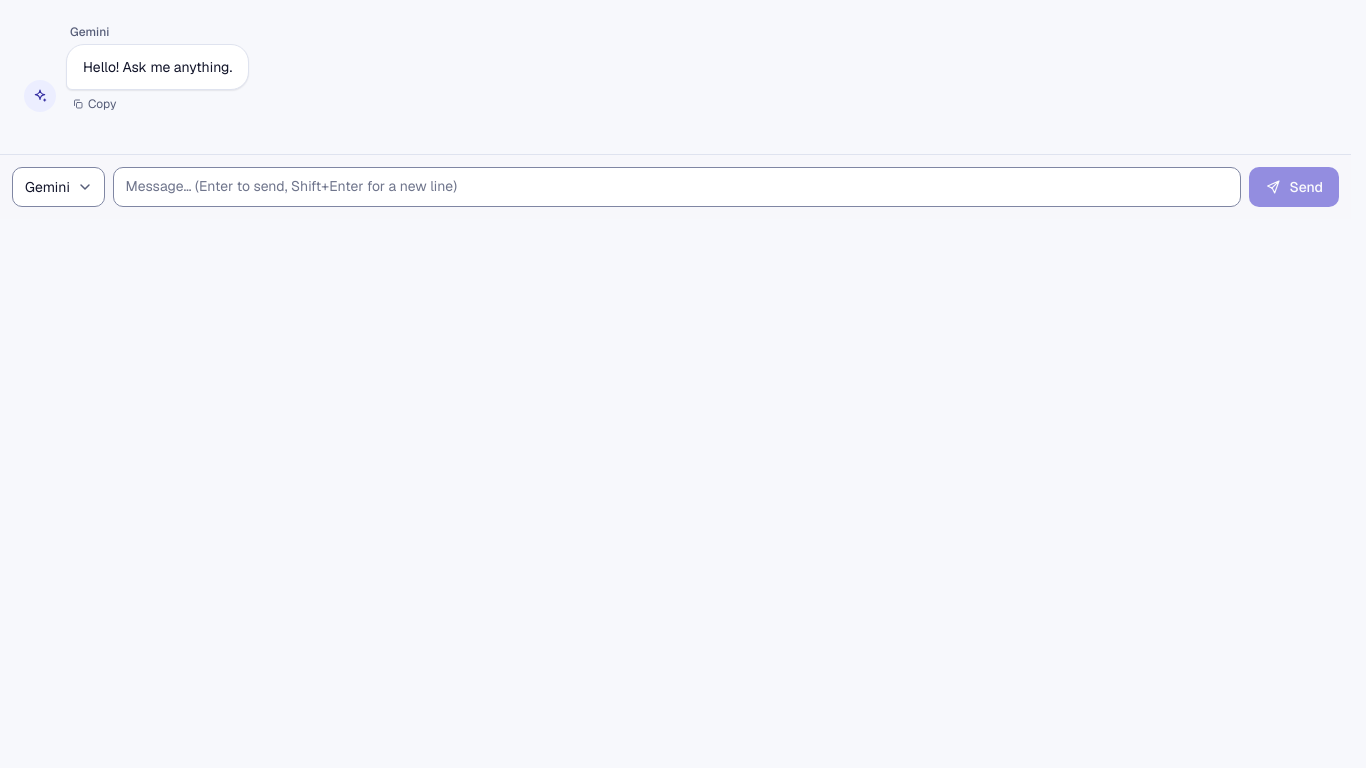
ChatWindow › copies an assistant reply
Click the button with aria-label "Copy this reply". click: click(94, 104)
box: [66, 94, 122, 114]
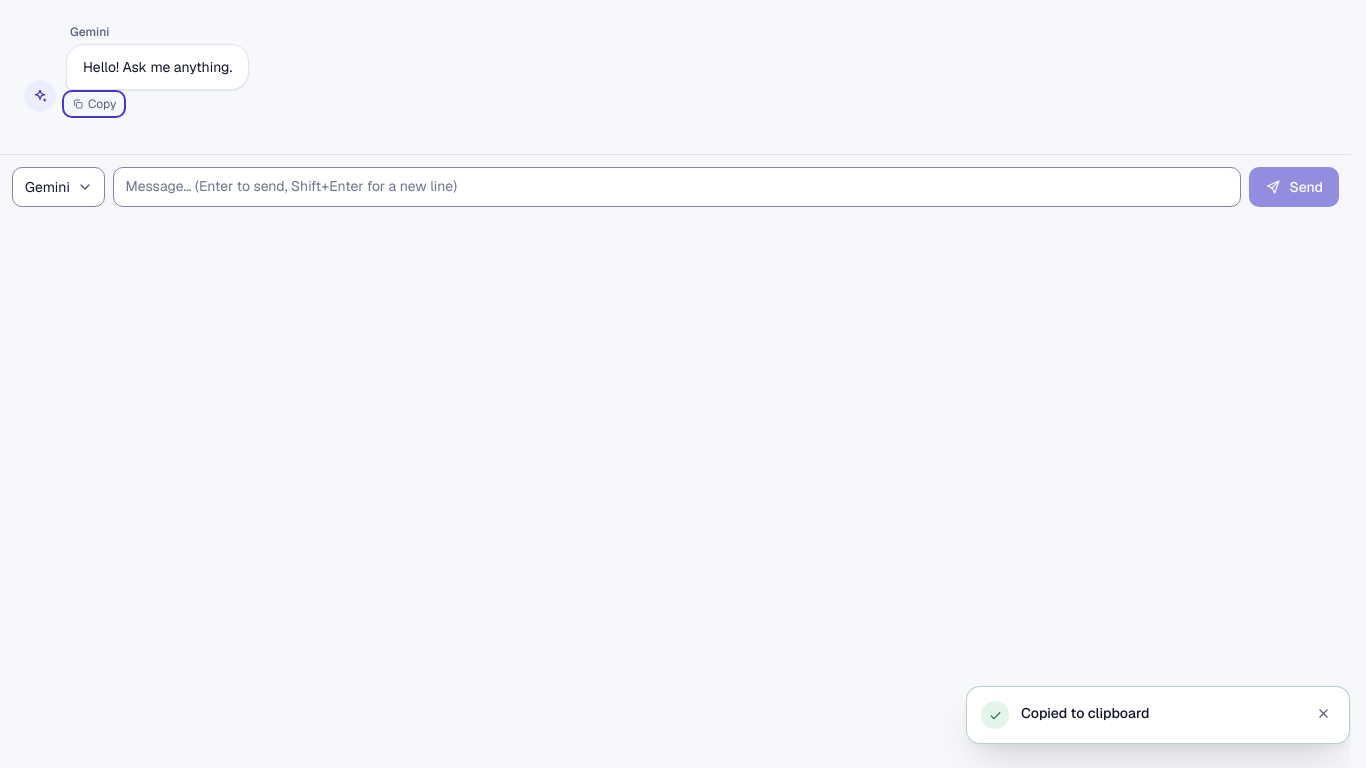
Now the text "Copied to clipboard" is shown, box [1021, 704, 1149, 722]
